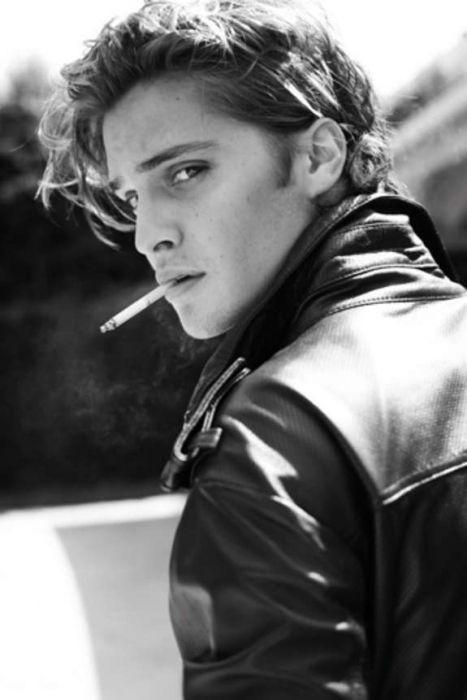cigarette: (100, 279, 177, 334)
